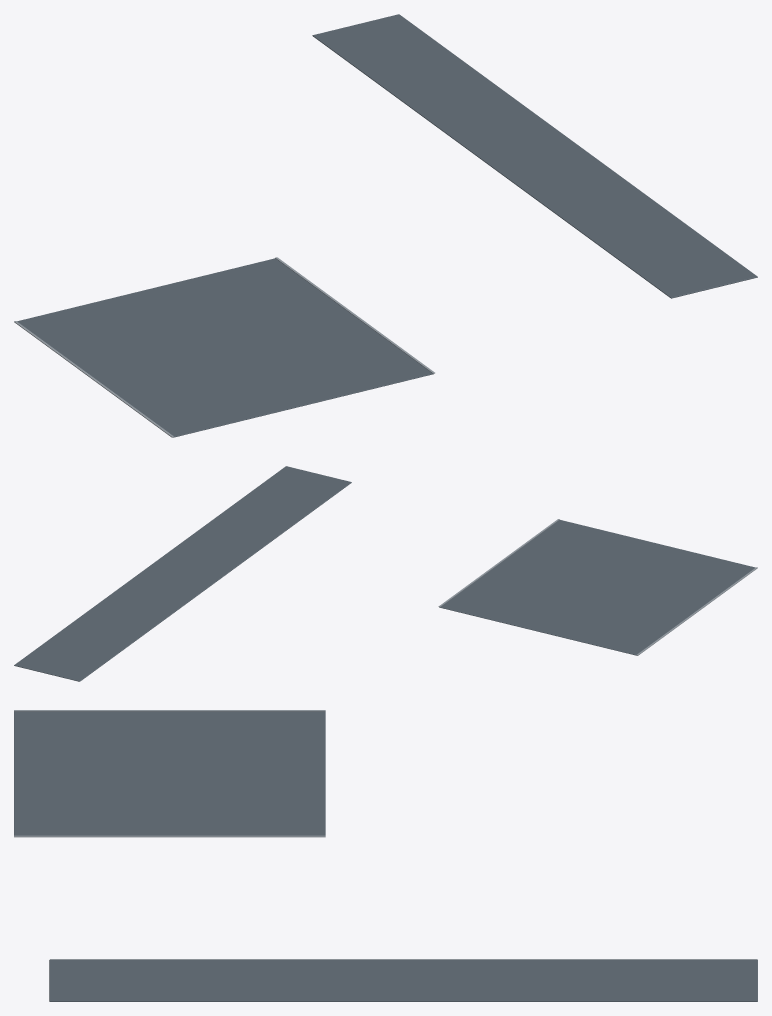
Rendered from 2_Room.fbx.
3 views of the same model, one above another, from view 1: azimuth 30°, elevation 25°; view 2: azimuth 150°, elevation 25°; view 3: azimuth 270°, elevation 25° (orthographic). The views are drawn at different scales.
Parts seen in each view (by area): view 1: Body; view 2: Body; view 3: Body.
Boxes of the visible parts, left/top/right/bottom form: Body: left=14, top=14, right=757, bottom=437; Body: left=14, top=466, right=757, bottom=681; Body: left=14, top=710, right=757, bottom=1001.
Size of the model in its own units: 9.72 by 0.019 by 10.5.
